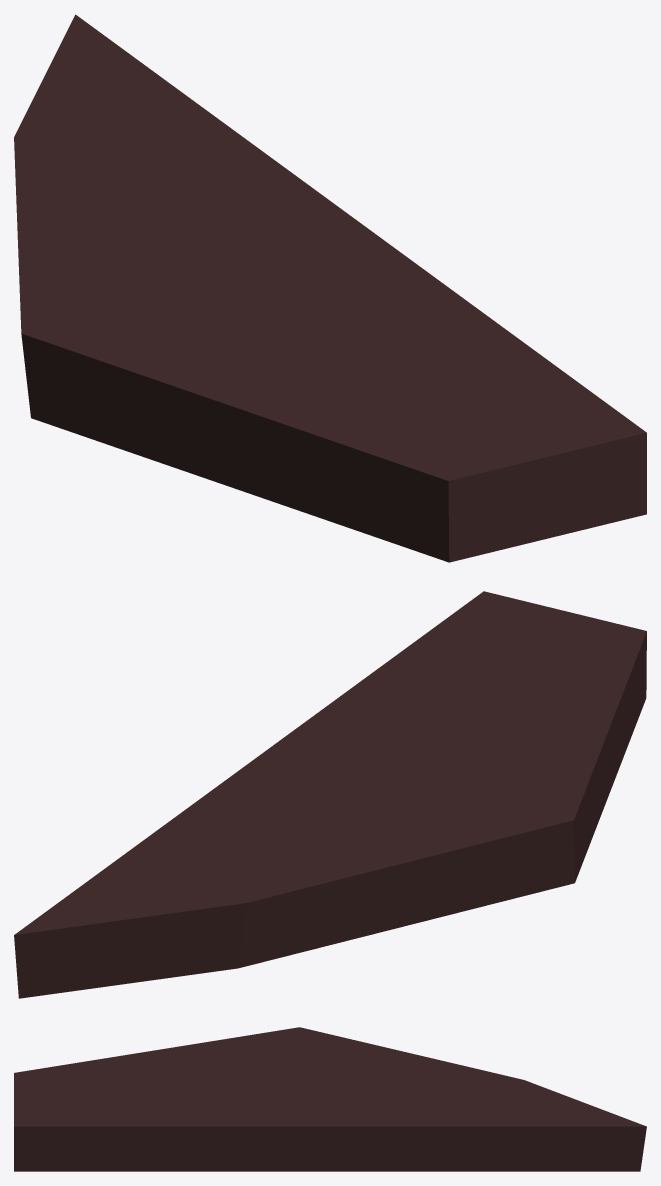
The model's file is T_SolDetruit_5.3.fbx.
The picture shows the model from 3 angles, top to bottom: view 1: azimuth 30°, elevation 25°; view 2: azimuth 150°, elevation 25°; view 3: azimuth 270°, elevation 25°; orthographic projection. The views are drawn at different scales.
Parts seen in each view (by area): view 1: T_SolDetruit_5.3; view 2: T_SolDetruit_5.3; view 3: T_SolDetruit_5.3.
Boxes of the visible parts, left/top/right/bottom form: T_SolDetruit_5.3: left=14, top=14, right=646, bottom=562; T_SolDetruit_5.3: left=14, top=591, right=646, bottom=998; T_SolDetruit_5.3: left=14, top=1027, right=646, bottom=1171.
Size of the model in its own units: 63.46 by 13.48 by 171.
